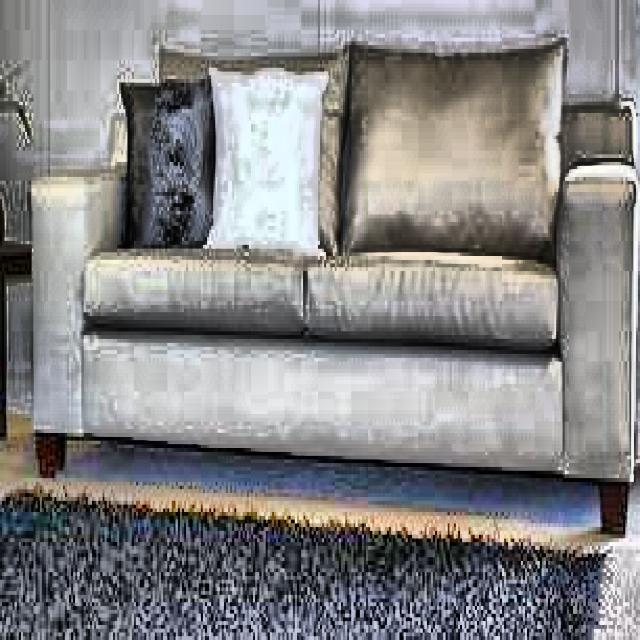sofa: (29, 41, 638, 538)
